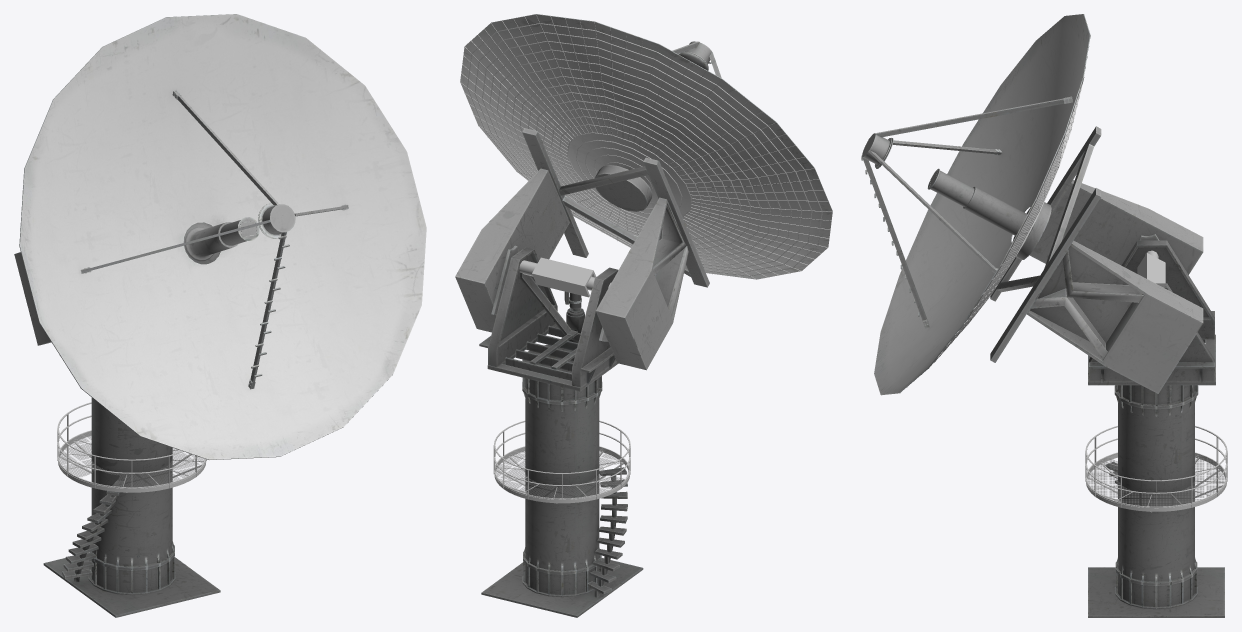
3 views of the same model, side by side, from view 1: azimuth 30°, elevation 25°; view 2: azimuth 150°, elevation 25°; view 3: azimuth 270°, elevation 25° (orthographic). The views are drawn at different scales.
Visible parts, largest first — view 1: AM84_027_09, AM84_027_00, AM84_027_02, AM84_027_05, AM84_027_01; view 2: AM84_027_09, AM84_027_00, AM84_027_08, AM84_027_10, AM84_027_02, AM84_027_06, AM84_027_05, AM84_027_01; view 3: AM84_027_09, AM84_027_00, AM84_027_02, AM84_027_05, AM84_027_08, AM84_027_01, AM84_027_06.
Part boxes in pixels (x1,y1,x2,y2): AM84_027_09: [14, 14, 426, 459]; AM84_027_00: [43, 397, 220, 617]; AM84_027_02: [59, 431, 204, 487]; AM84_027_05: [57, 402, 206, 492]; AM84_027_01: [58, 430, 205, 492]; AM84_027_09: [455, 14, 832, 370]; AM84_027_00: [479, 247, 643, 617]; AM84_027_08: [467, 23, 822, 276]; AM84_027_10: [460, 15, 832, 279]; AM84_027_02: [495, 447, 628, 498]; AM84_027_06: [519, 257, 611, 297]; AM84_027_05: [493, 420, 630, 503]; AM84_027_01: [494, 446, 630, 503]; AM84_027_09: [861, 14, 1203, 395]; AM84_027_00: [1088, 240, 1224, 617]; AM84_027_02: [1087, 453, 1225, 506]; AM84_027_05: [1085, 426, 1227, 512]; AM84_027_08: [934, 83, 1082, 362]; AM84_027_01: [1086, 452, 1226, 511]; AM84_027_06: [1137, 250, 1165, 283].
Bounding box in the file's own units: 1415 × 2050 × 1218.
Materials: 4 (3 with a texture image).
